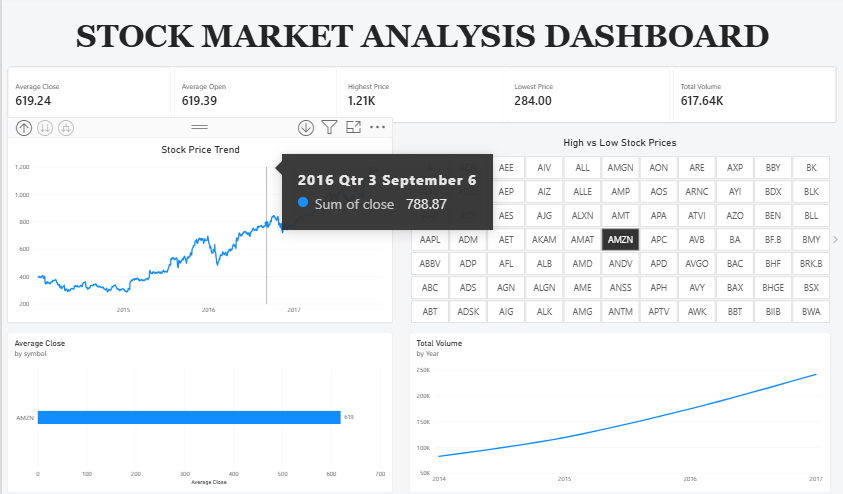

This screenshot's page, from the dashboard's own definition file:
{"tool":"powerbi","page":{"name":"Page 1","canvas":[1920,1080],"ordinal":0},"visuals":[{"type":"cardVisual","fields":{"Data":["2) Stock Prices Data Set.Average Close","2) Stock Prices Data Set.Average Open","2) Stock Prices Data Set.Highest Price","2) Stock Prices Data Set.Lowest Price","2) Stock Prices Data Set.Total Volume"]},"box":[12,108,1890,130],"z":0},{"type":"lineChart","title":"Stock Price Trend","fields":{"Category":["2) Stock Prices Data Set.date.Variation.Date Hierarchy.Year","2) Stock Prices Data Set.date.Variation.Date Hierarchy.Quarter","2) Stock Prices Data Set.date.Variation.Date Hierarchy.Month","2) Stock Prices Data Set.date.Variation.Date Hierarchy.Day"],"Y":["Sum(2) Stock Prices Data Set.close)"]},"box":[11.4,270,877.1,424.3],"z":1000},{"type":"slicer","title":"High vs Low Stock Prices","fields":{"Values":["2) Stock Prices Data Set.symbol"]},"box":[908.6,270,991.4,424.3],"z":2000},{"type":"clusteredBarChart","fields":{"Category":["2) Stock Prices Data Set.symbol"],"Y":["2) Stock Prices Data Set.Average Close"]},"box":[11.4,714.3,877,366],"z":3000},{"type":"lineChart","fields":{"Category":["2) Stock Prices Data Set.date.Variation.Date Hierarchy.Year","2) Stock Prices Data Set.date.Variation.Date Hierarchy.Quarter","2) Stock Prices Data Set.date.Variation.Date Hierarchy.Month","2) Stock Prices Data Set.date.Variation.Date Hierarchy.Day"],"Y":["2) Stock Prices Data Set.Total Volume"]},"box":[924,714,958,366],"z":4000},{"type":"textbox","box":[12,0,1890,90],"z":5000}]}

Visuals, with their boxes on the page's 1920x1080 design canvas (x1, y1, x2, y2). These are canvas units, not pixel positions in the 843x494 screenshot, which may show the page scaled, cropped or inside an application window:
cardVisual - 2) Stock Prices Data Set.Average Close x 2) Stock Prices Data Set.Average Open: (12, 108, 1902, 238)
"Stock Price Trend" lineChart: (11, 270, 888, 694)
"High vs Low Stock Prices" slicer: (909, 270, 1900, 694)
clusteredBarChart - 2) Stock Prices Data Set.symbol x 2) Stock Prices Data Set.Average Close: (11, 714, 888, 1080)
lineChart - 2) Stock Prices Data Set.date.Variation.Date Hierarchy.Year x 2) Stock Prices Data Set.date.Variation.Date Hierarchy.Quarter: (924, 714, 1882, 1080)
textbox: (12, 0, 1902, 90)
